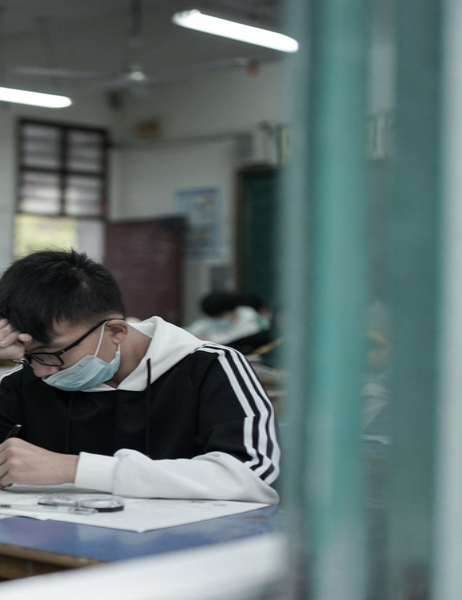mask_weared_incorrect: (0, 254, 118, 391)
